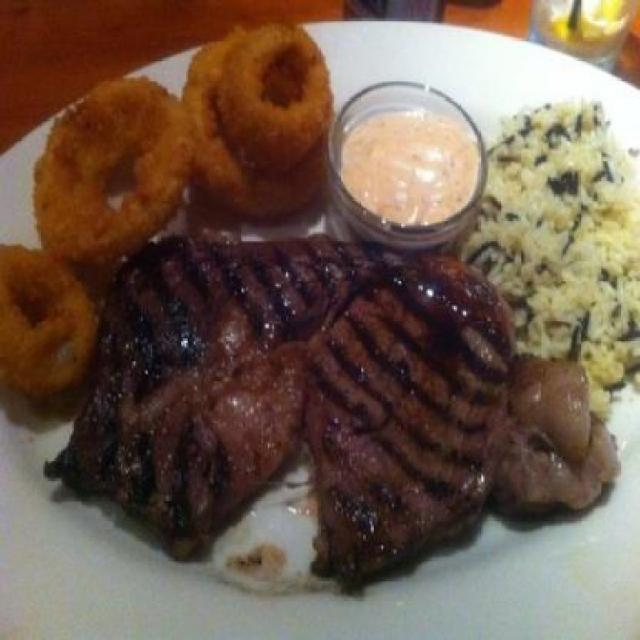Steak: (126, 222, 537, 570)
